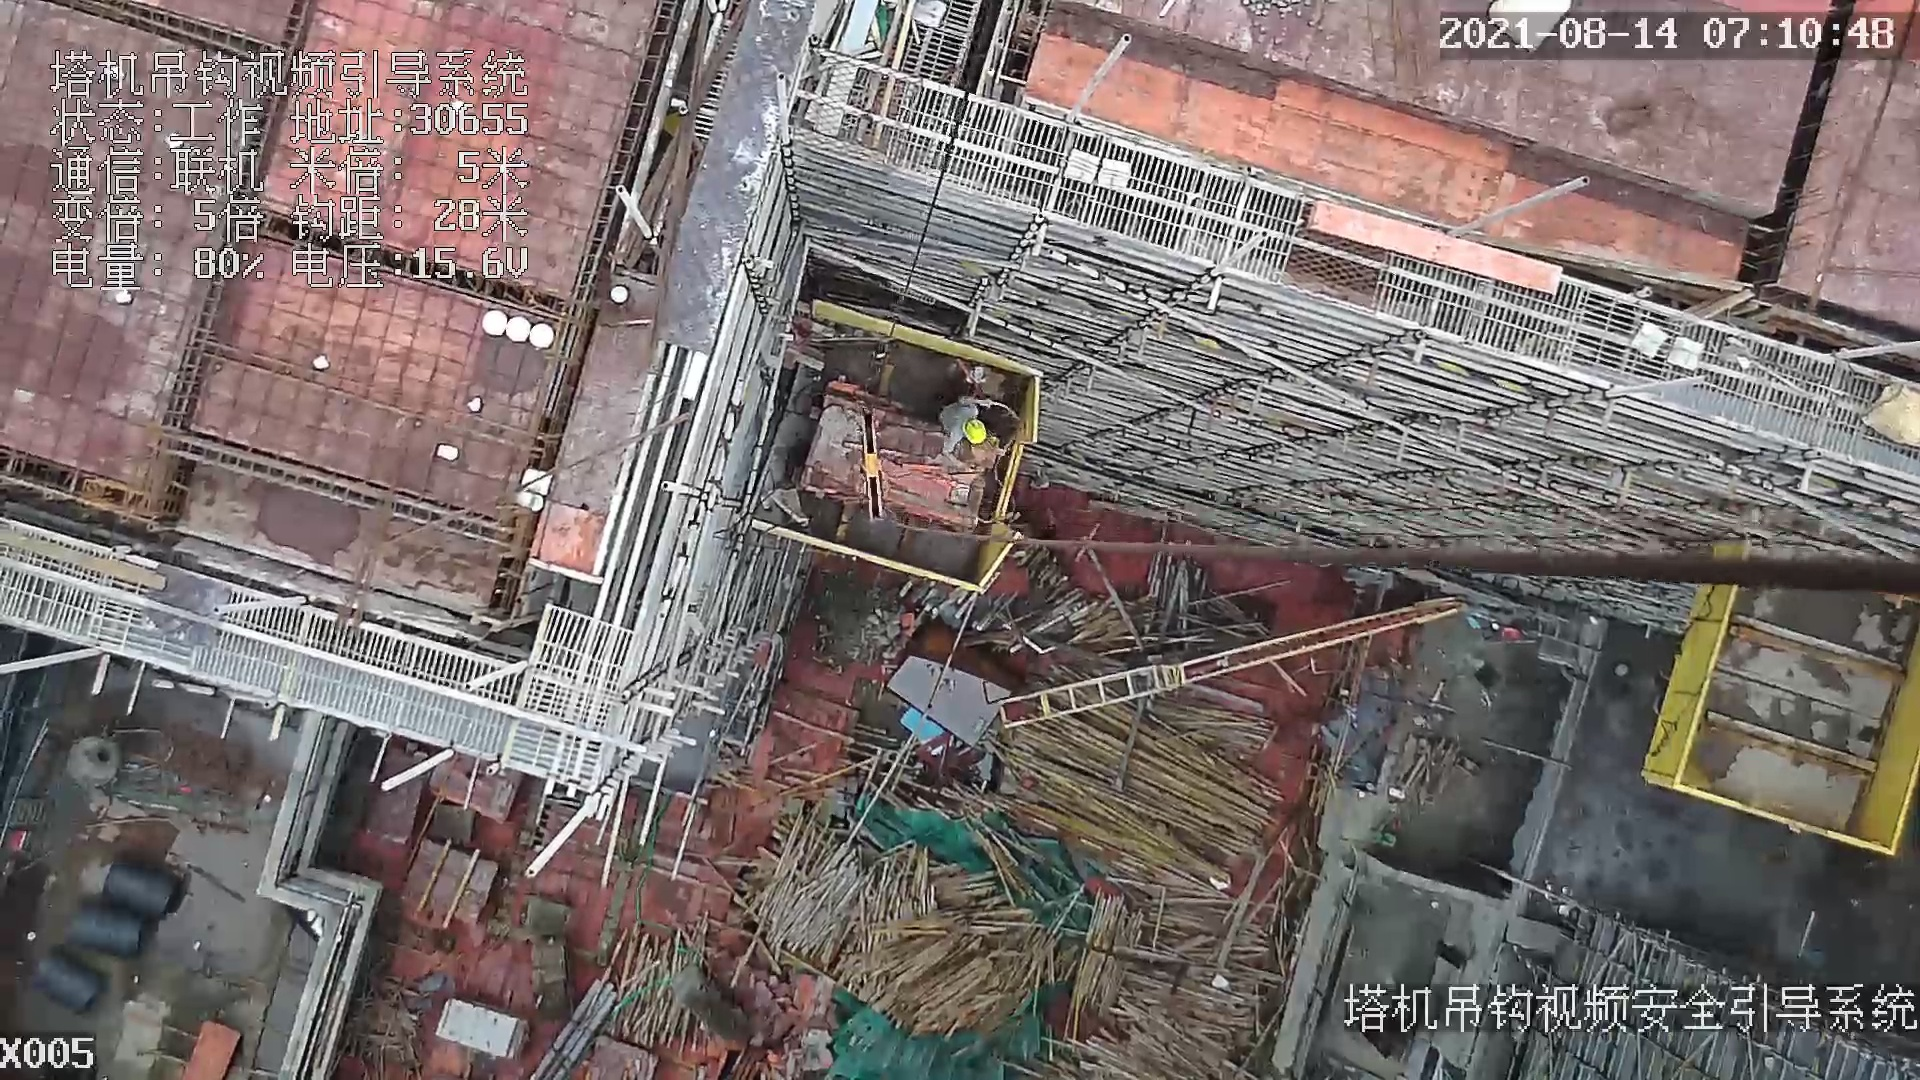helmet: (963, 417, 987, 445)
hook: (851, 408, 895, 519)
person: (927, 391, 1004, 464)
